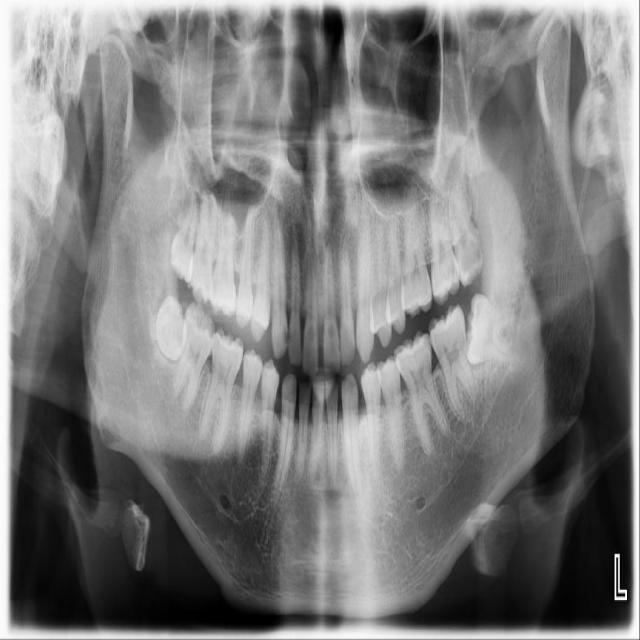impacted tooth: (465, 294, 528, 363), (150, 296, 182, 358)
